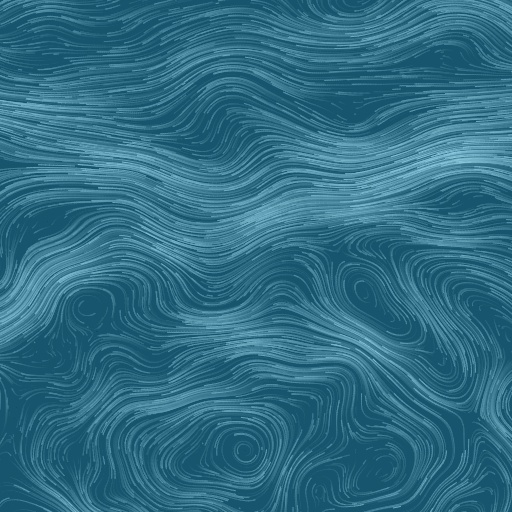eddy: (201, 416, 285, 487), (338, 264, 415, 340), (341, 444, 411, 501), (62, 282, 114, 336)
